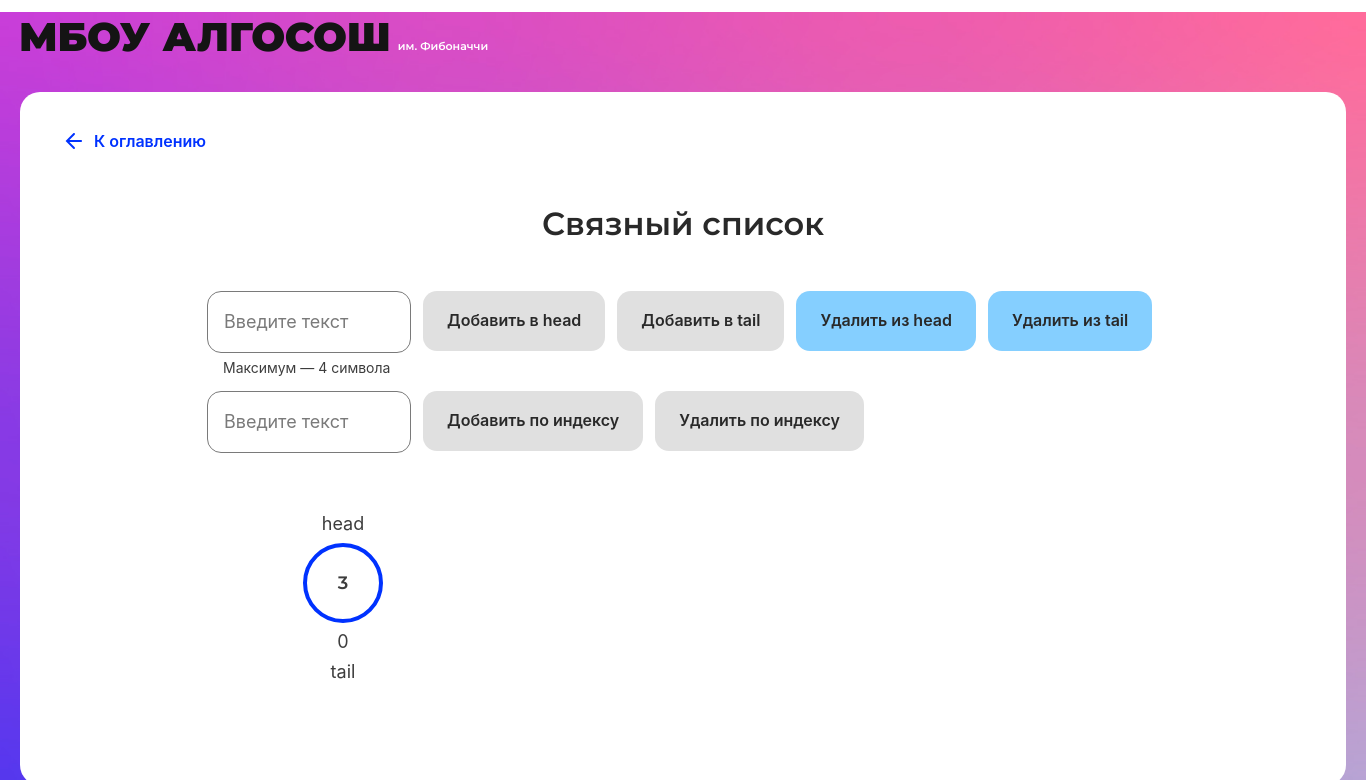
Проверка страницы списка › Удаляем по индексу
Type "0" into the number field named "index".
click(309, 422); type("0")  # box 207,391 -> 411,453
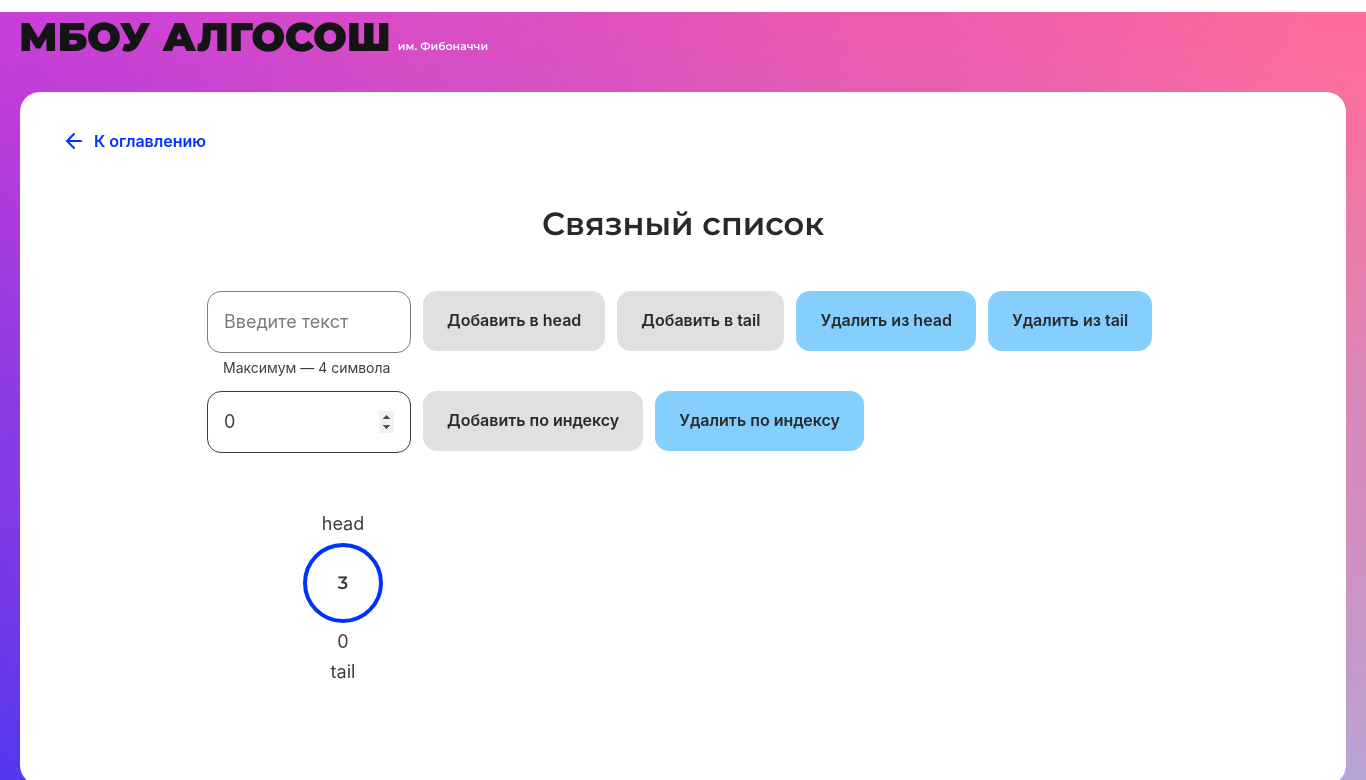
Click the button with test id "btn-delete-index".
click(760, 421)  # box 655,391 -> 864,451
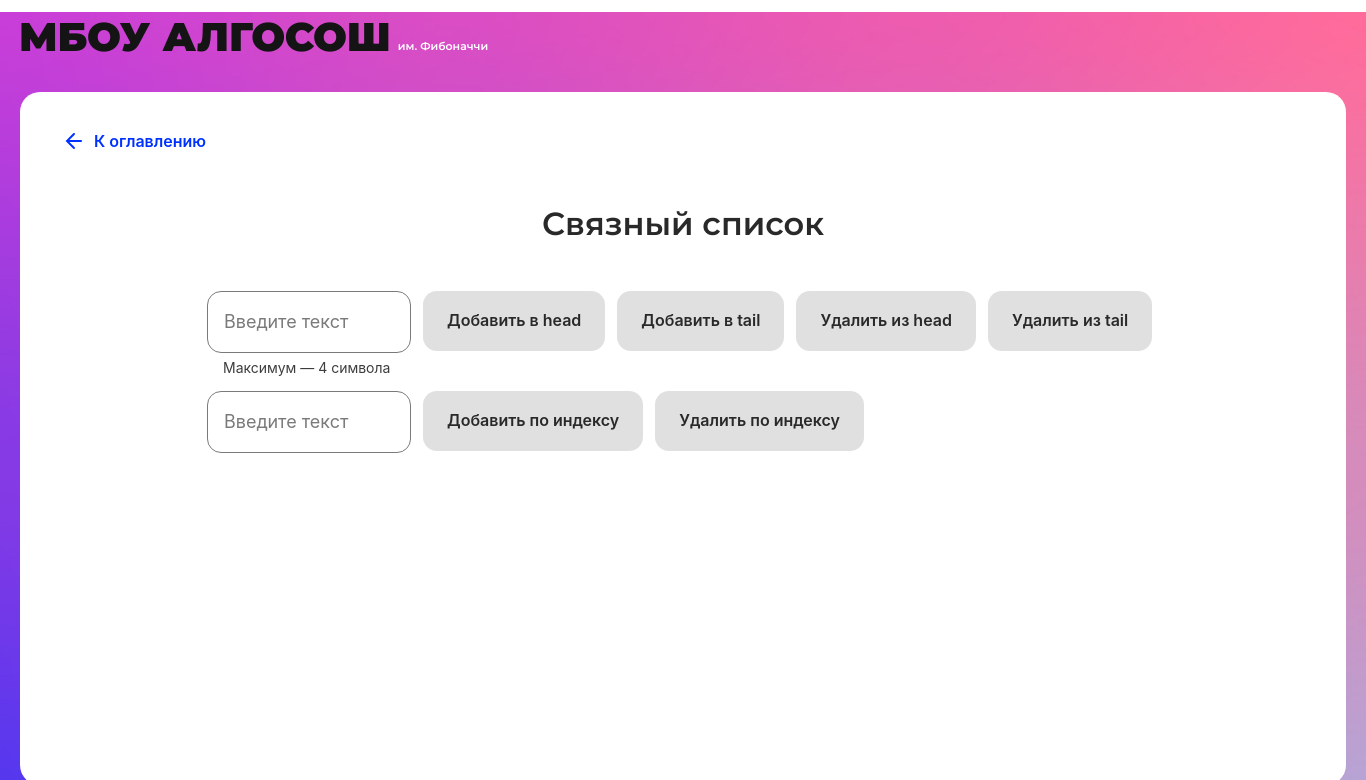
Result: the element with test id "circle" is gone
